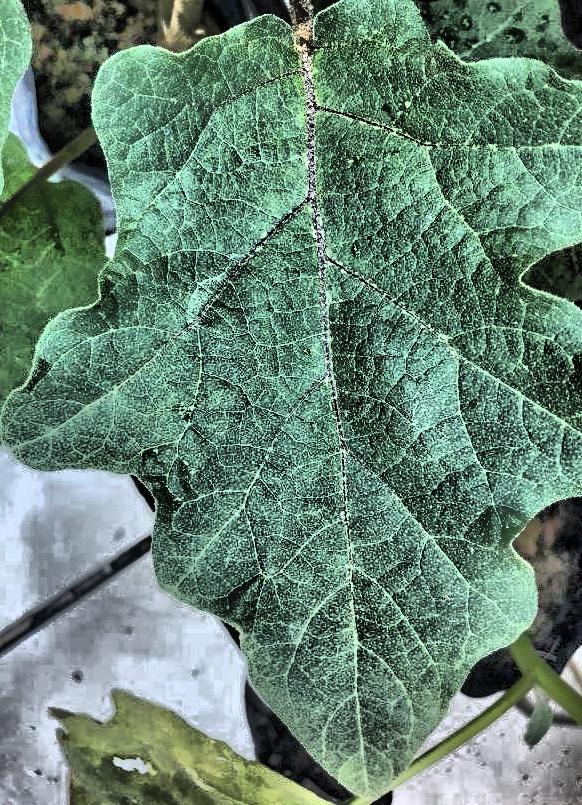HEALTHY: (1, 0, 582, 805)
